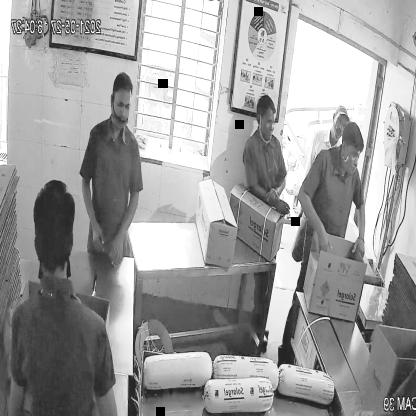no_goggles: (107, 94, 135, 118), (338, 142, 366, 165)
